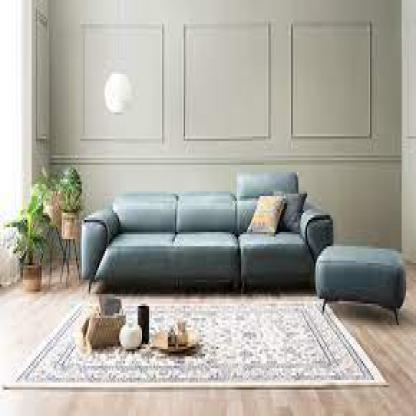sofa: (87, 186, 406, 320)
